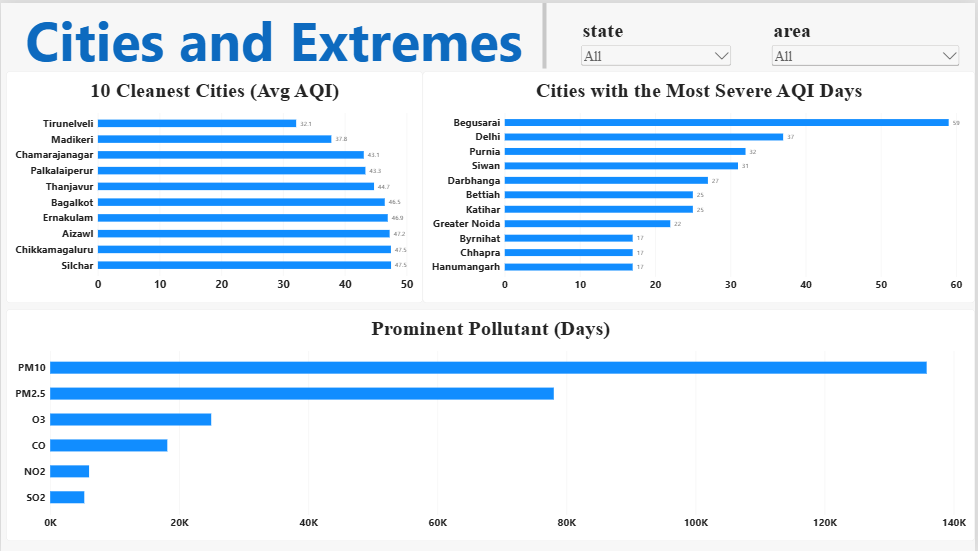

The page's visual inventory and layout, read from the dashboard file:
{"tool":"powerbi","page":{"name":"Cities and Extremes","canvas":[1920,1080],"ordinal":2},"visuals":[{"type":"textbox","box":[11.6,0,1064.5,135.5],"z":0},{"type":"slicer","fields":{"Values":["aqi.state"]},"box":[1138.1,31,305.8,104.5],"z":1},{"type":"slicer","fields":{"Values":["aqi.area"]},"box":[1513.5,31,379.4,104.5],"z":2},{"type":"clusteredBarChart","title":"10 Cleanest Cities (Avg AQI)","fields":{"Category":["aqi.area"],"Y":["aqi.Avg AQI"]},"box":[11.6,135.5,820.6,456.8],"z":3},{"type":"clusteredBarChart","title":"Cities with the Most Severe AQI Days","fields":{"Category":["aqi.area"],"Y":["aqi.Severe Days"]},"box":[832.3,135.5,1087.7,456.8],"z":4},{"type":"clusteredBarChart","title":"Prominent Pollutant (Days)","fields":{"Category":["Pollutants.Pollutant"],"Y":["Pollutants.Pollutant Days"]},"box":[11.6,603.9,1908.4,456.8],"z":5}]}

Visuals, with their boxes in screenshot pixels (x1, y1, x2, y2), scaled from the page's 1920x1080 canvas onto the 978x551 screenshot:
textbox: detection(6, 0, 548, 69)
slicer - aqi.state: detection(580, 16, 735, 69)
slicer - aqi.area: detection(771, 16, 964, 69)
"10 Cleanest Cities (Avg AQI)" clusteredBarChart: detection(6, 69, 424, 302)
"Cities with the Most Severe AQI Days" clusteredBarChart: detection(424, 69, 977, 302)
"Prominent Pollutant (Days)" clusteredBarChart: detection(6, 308, 977, 541)
